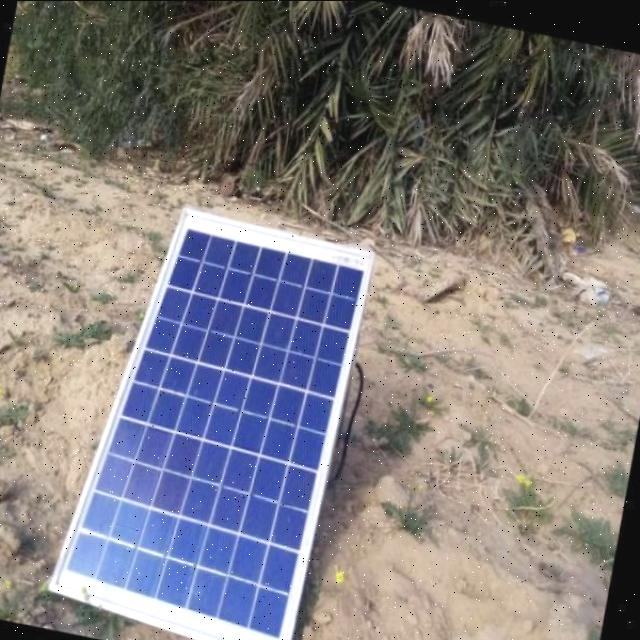Normal Solar Panel: (48, 190, 378, 640)
